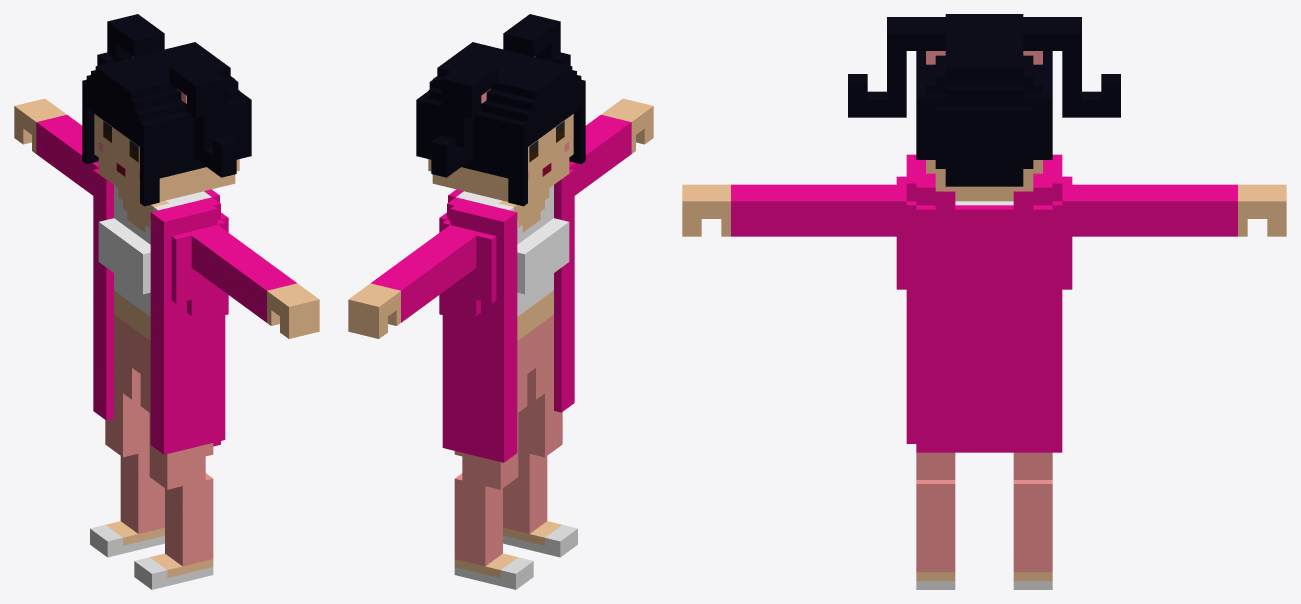
Rendered from female_char9.obj.
3 renders of one model, left to right at view 1: azimuth 30°, elevation 25°; view 2: azimuth 150°, elevation 25°; view 3: azimuth 270°, elevation 25°, orthographic. The views are drawn at different scales.
Bounding box in the file's own units: 1.5 × 6.3 × 6.2.
1 material, 1 textured.
